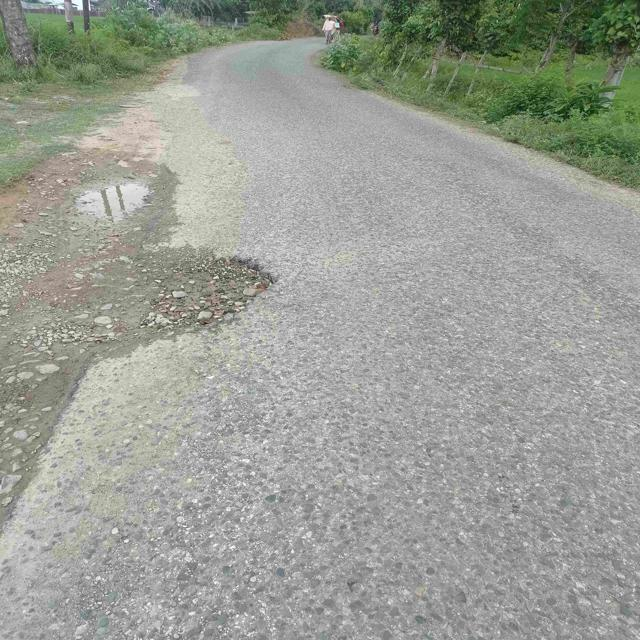Pinggir: (44, 239, 292, 418)
